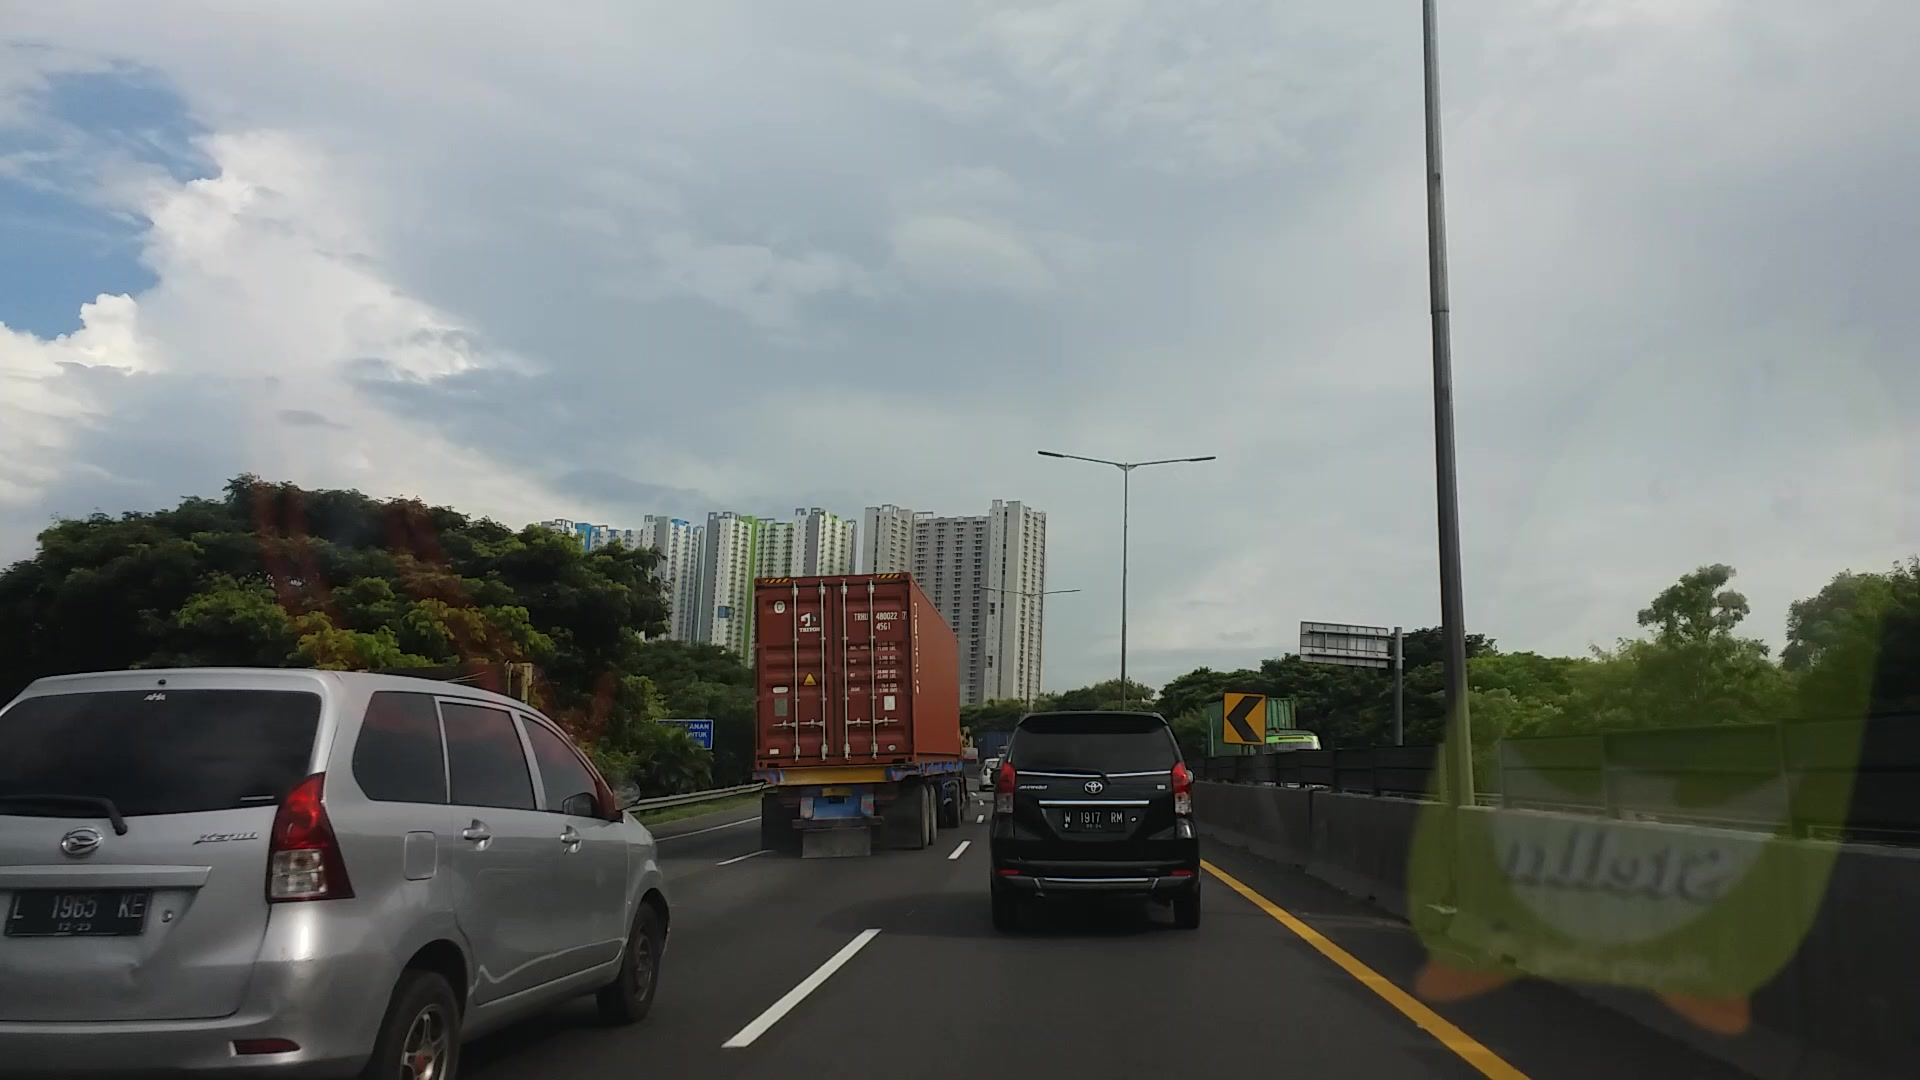plate_positive: (5, 890, 146, 935), (1062, 807, 1125, 833)
